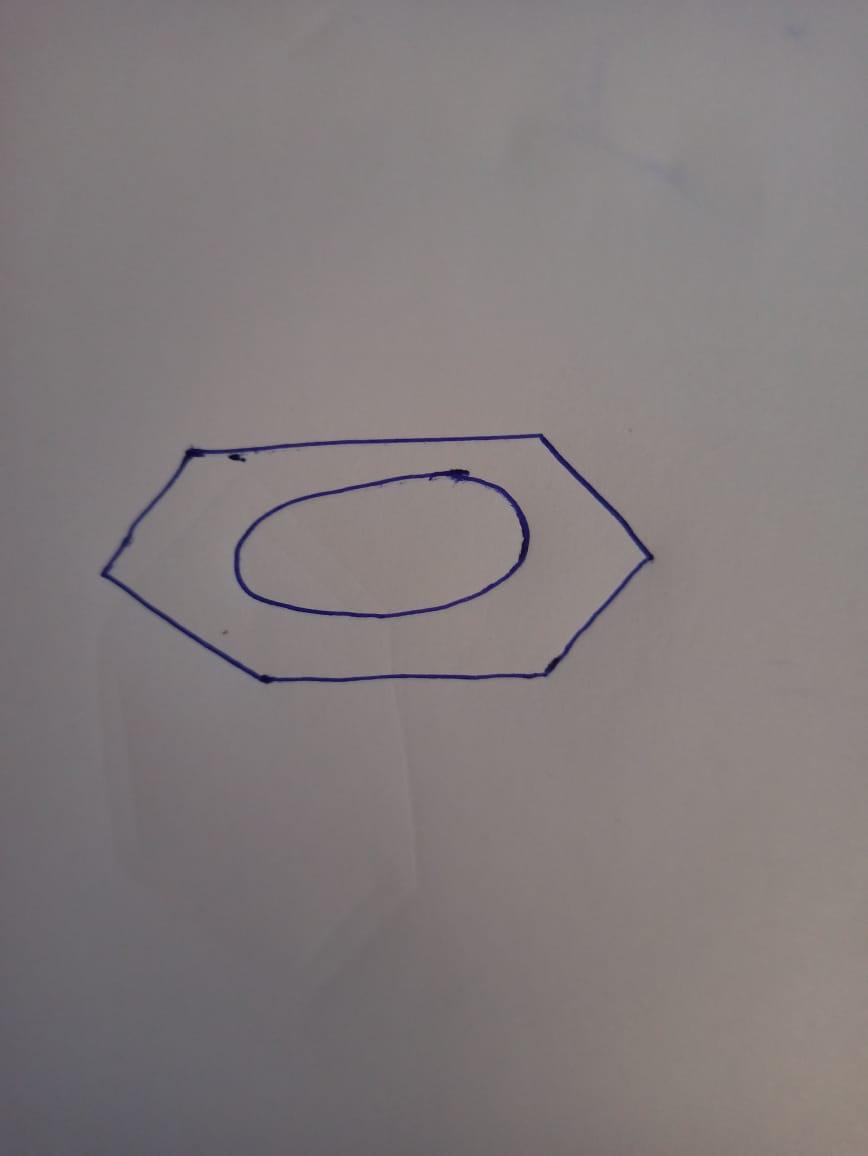shape_mask: (84, 398, 696, 715)
